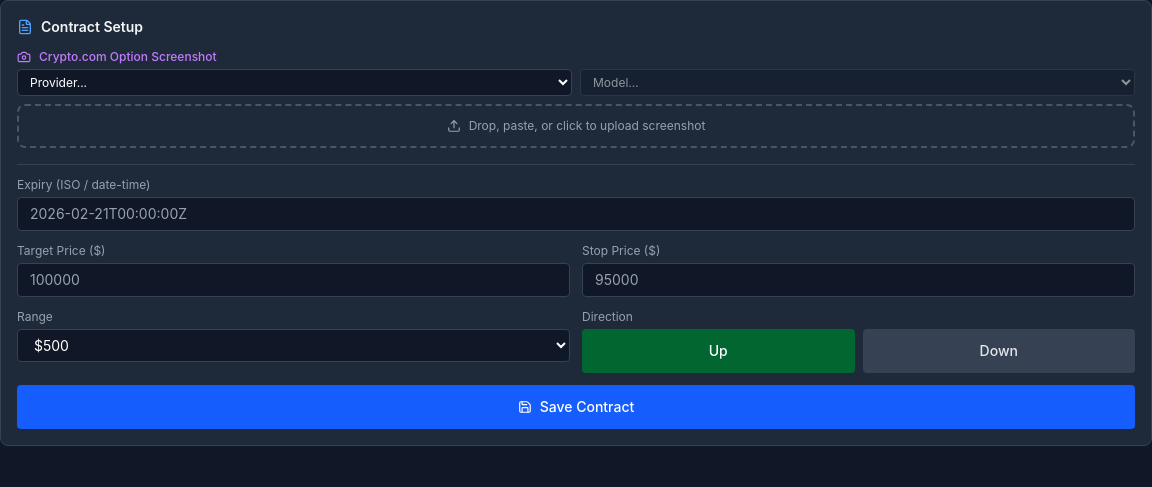
ContractSetup save feedback › keeps the Saved confirmation on success
Step 1. Click the button "Save Contract" → (576, 407), box [17,385,1135,429]
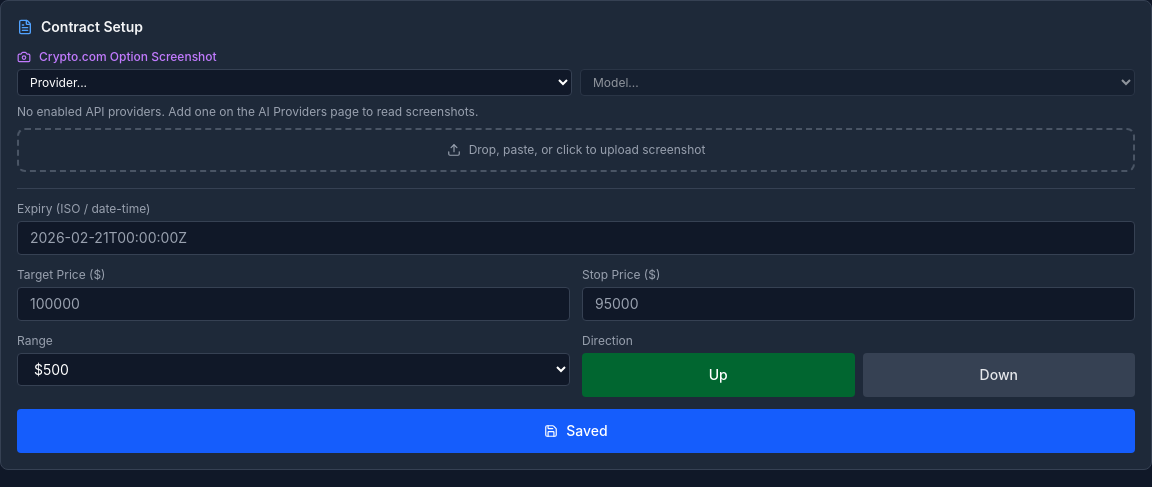
Expected: the button "Saved" is shown, [17,409,1135,453]
